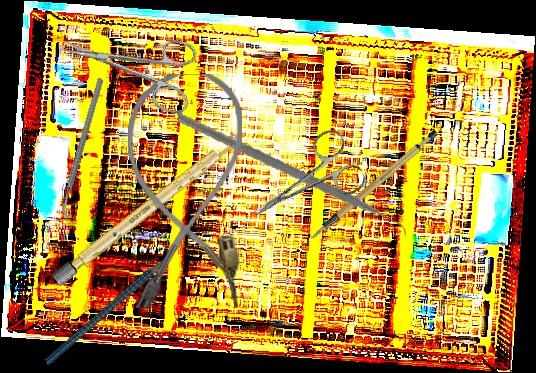Cannula: (128, 74, 242, 308)
Chopper: (177, 90, 408, 272), (19, 229, 210, 366), (16, 77, 151, 221)
Iris Scissors: (51, 8, 206, 117), (236, 125, 370, 241)
Scalpel Handle: (51, 130, 245, 287), (294, 127, 451, 241)
